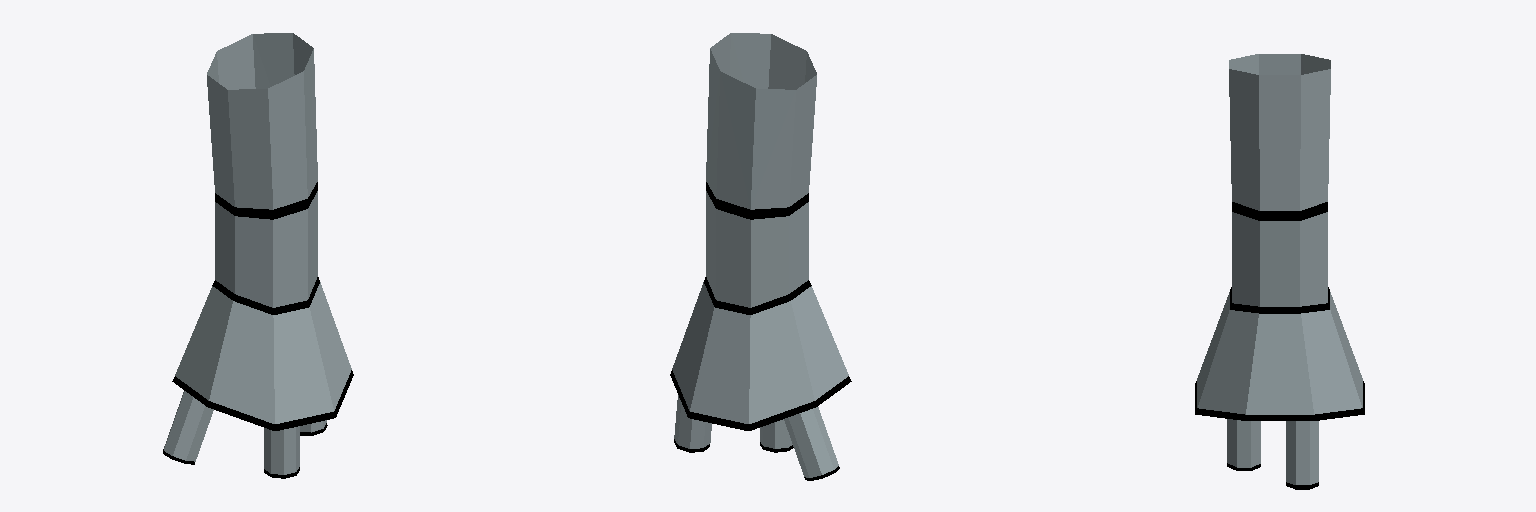
The picture shows the model from 3 angles: view 1: azimuth 30°, elevation 25°; view 2: azimuth 150°, elevation 25°; view 3: azimuth 270°, elevation 25°; orthographic projection.
Visible parts, largest first — view 1: braso1_1, braso1_002; view 2: braso1_1, braso1_002; view 3: braso1_1, braso1_002.
Boxes of the visible parts, <box> form: braso1_1: <box>172,33,353,430</box>; braso1_002: <box>163,391,327,478</box>; braso1_1: <box>670,33,851,430</box>; braso1_002: <box>674,395,839,480</box>; braso1_1: <box>1195,54,1364,420</box>; braso1_002: <box>1227,419,1319,489</box>.
Bounding box in the file's own units: 0.2987 × 0.7242 × 0.2721.
4 materials, 1 textured.